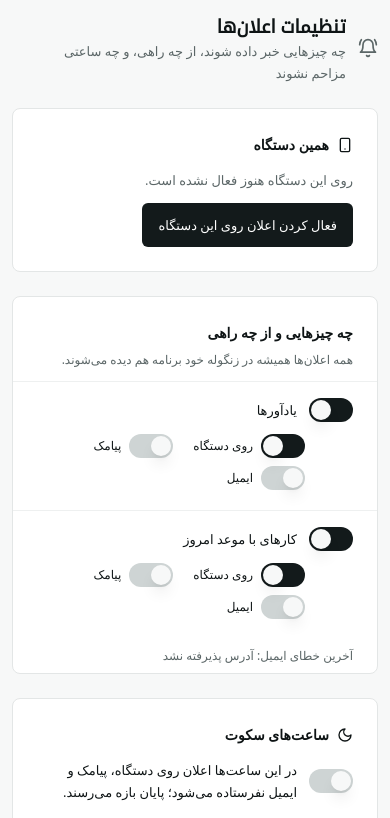
Test: notification settings page › SMS without a phone number: the error is shown next to the switches, and the switch goes back
Click the switch named "یادآورها: پیامک" at {"x": 151, "y": 446}, box [129,434,173,458]
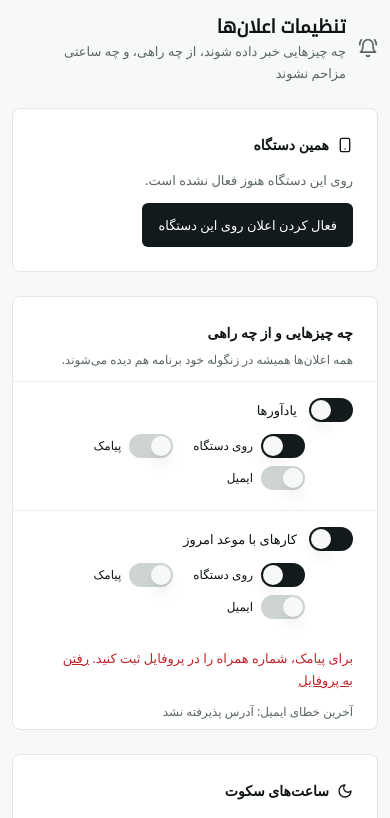
Expected: the message shows "شماره همراه را در پروفایل ثبت کنید", [96,649,353,667]
